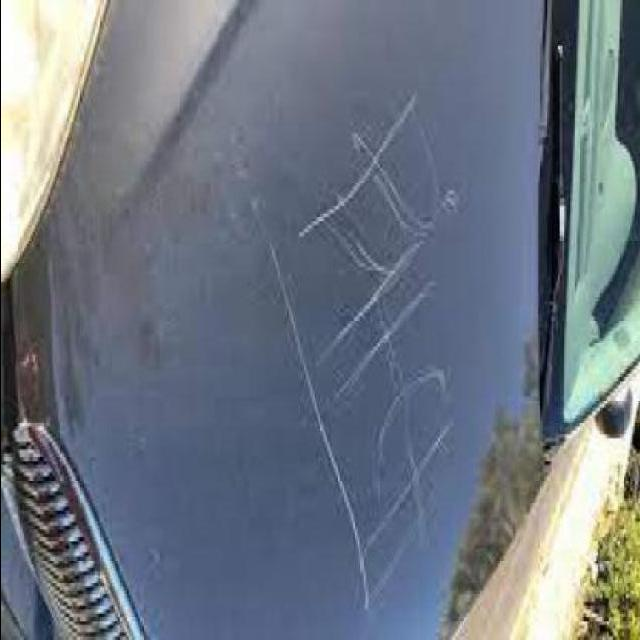bonnet-dent: (50, 0, 544, 637)
